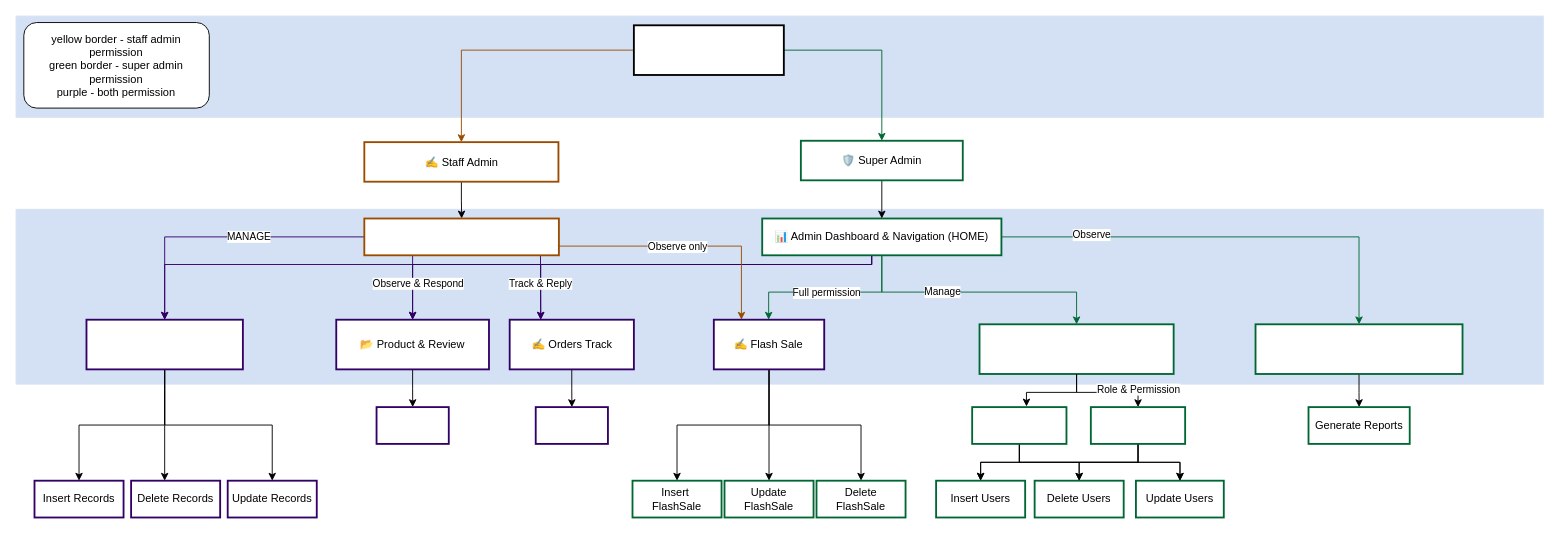
Image size: 1559x535. Some labels were removed from this diagram. The shapes that lost their labels are listed below. From the top down, each one's centre as x and y in pixels, then its label:
the point at 708,49: 🔒 Login Page
the point at 461,236: 📊 Landing Page & Navigation (HOME)
the point at 164,344: 📂 Stocks Management
the point at 1076,348: 📂 User Management
the point at 1358,348: 📈 Reports
the point at 412,425: REVIEWS
the point at 571,425: Orders Summarize
the point at 1019,425: Customer
the point at 1137,425: Admin
